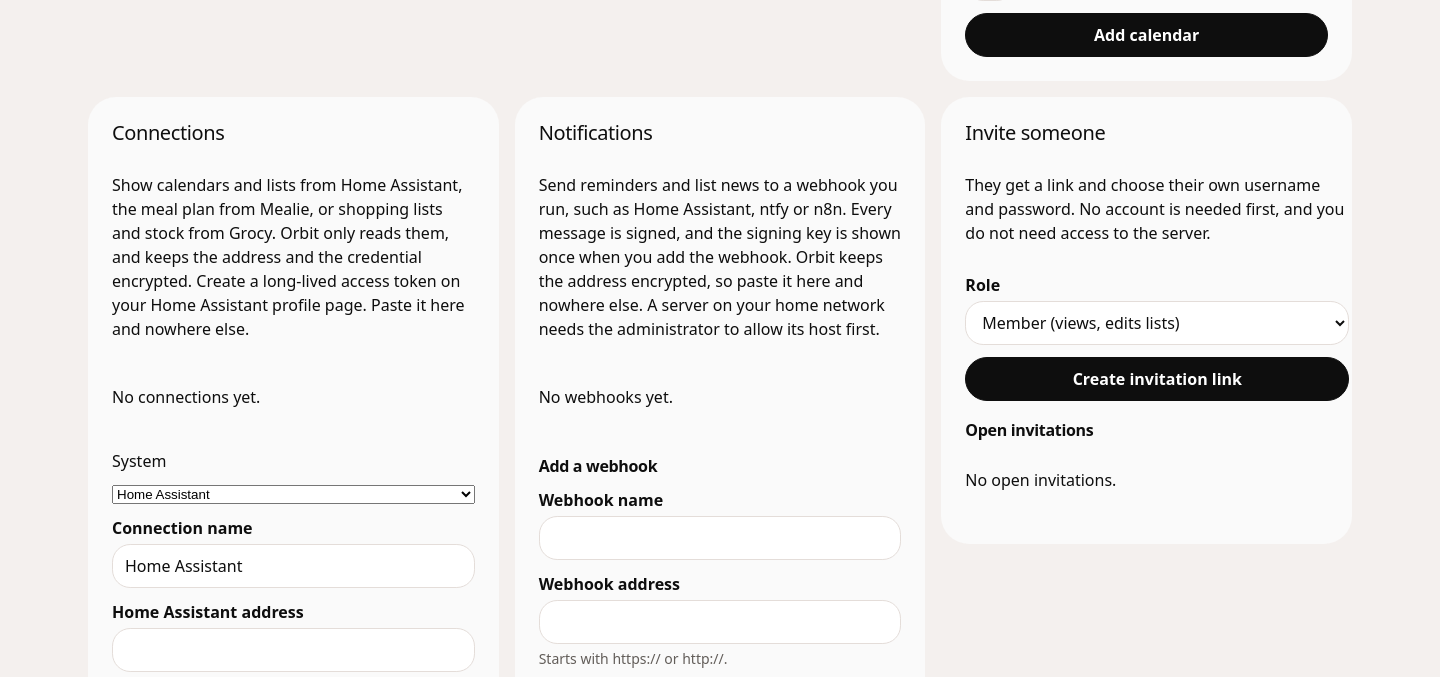
invitations panel › shows why creating a link failed
(page scrolled)
Click the button "Create invitation link": (1157, 378) [965,356,1349,400]
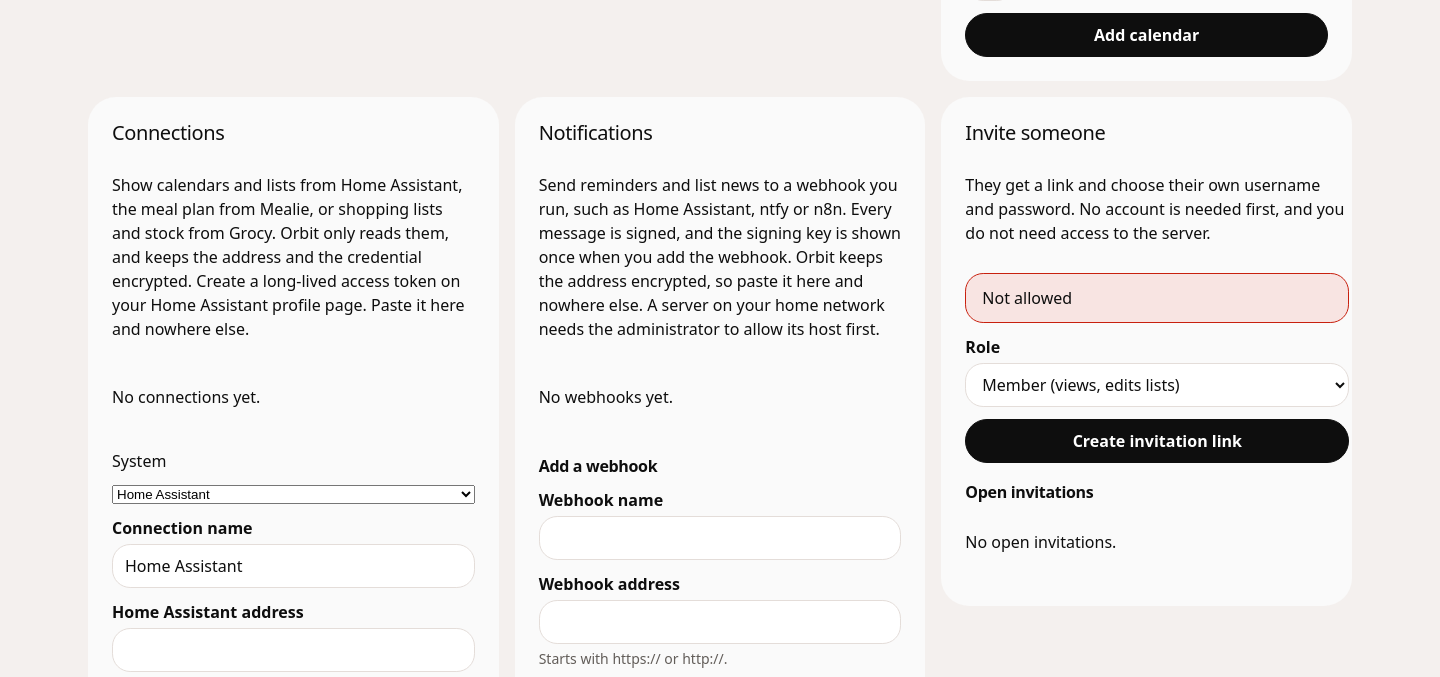
Check: the message reads "Not allowed", box [982,286,1072,308]
